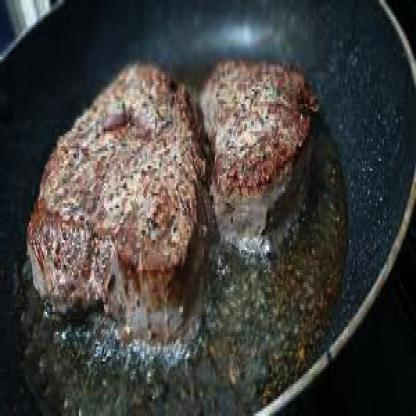Carne: (27, 62, 211, 322), (196, 52, 310, 246)
